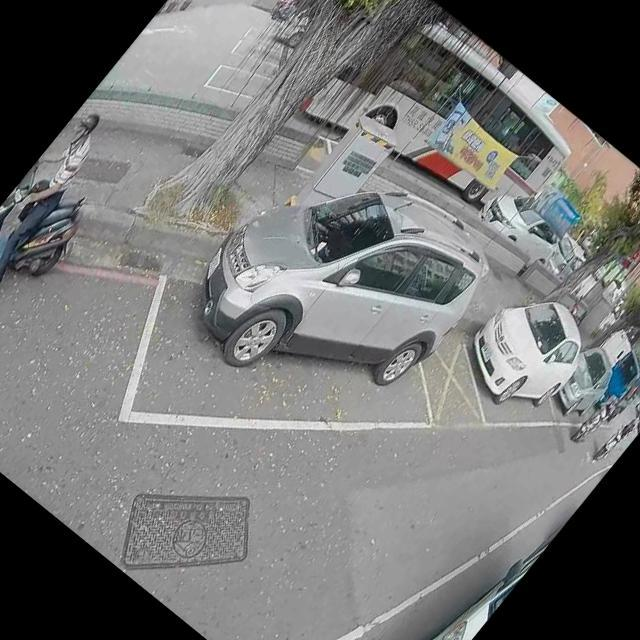person: (0, 101, 126, 314), (578, 388, 624, 439), (614, 416, 640, 443), (277, 0, 304, 16)
